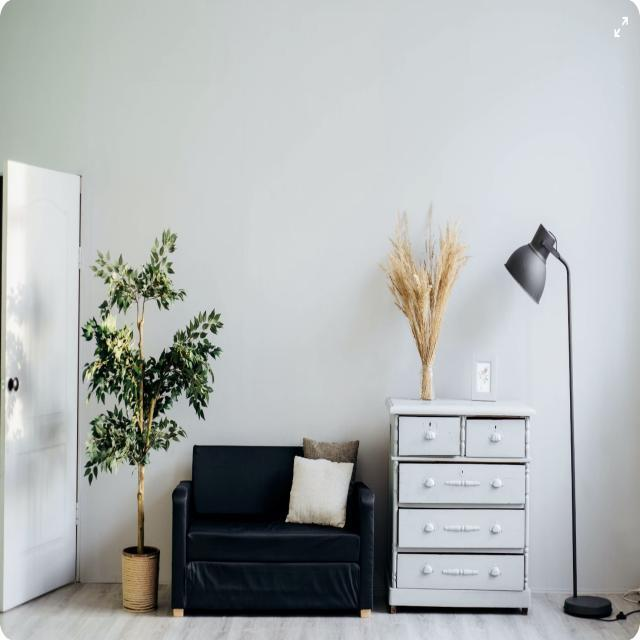cabinet: (379, 382, 536, 622)
lamp: (490, 204, 620, 630)
picture: (470, 342, 498, 407)
pillow: (288, 450, 352, 530)
potted plant: (94, 236, 188, 616), (392, 210, 452, 404)
sofa: (174, 436, 378, 624)
